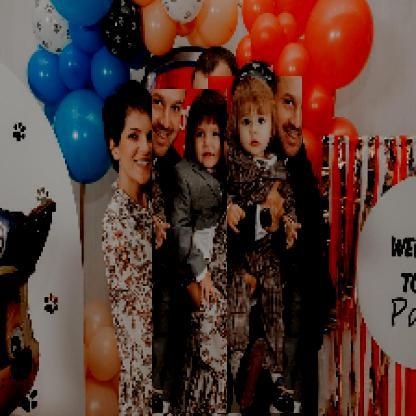child: (209, 77, 304, 415), (154, 90, 230, 415)
